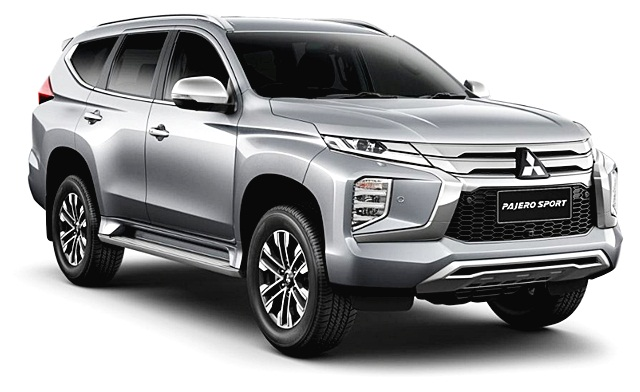pickup: (27, 12, 623, 359)
